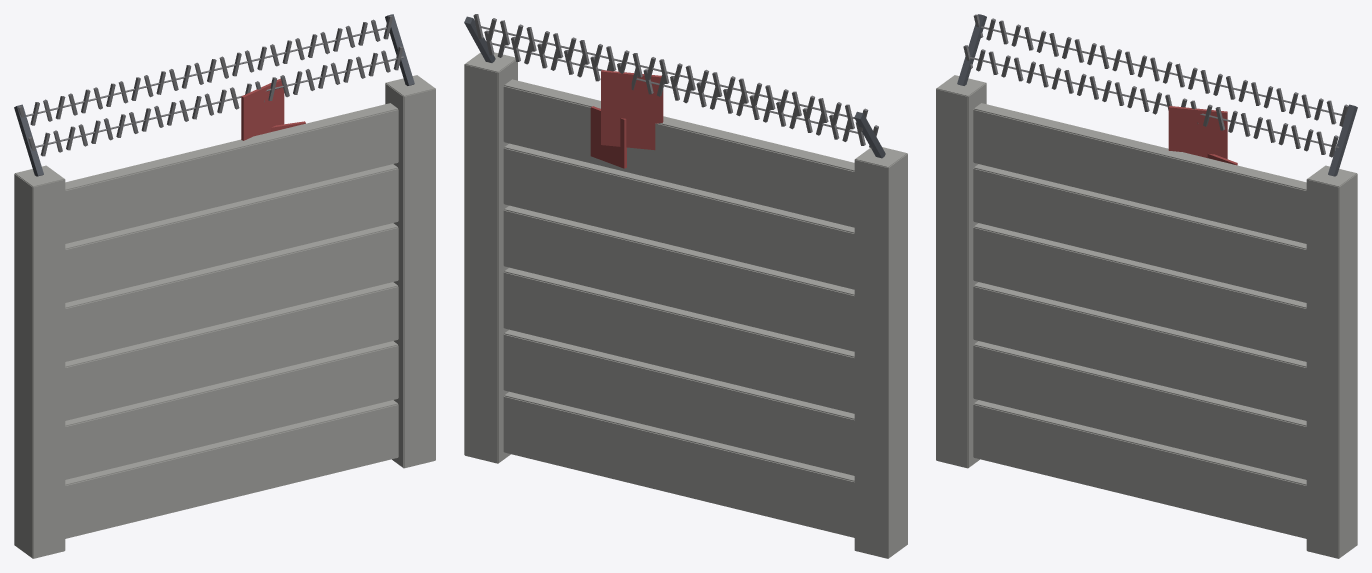
File: fence_high_barbed.glb
3 renders of one model, left to right at view 1: azimuth 30°, elevation 25°; view 2: azimuth 150°, elevation 25°; view 3: azimuth 330°, elevation 25°, orthographic. The views are drawn at different scales.
Visible parts, largest first — view 1: ok_mesh, loose_mesh; view 2: ok_mesh, loose_mesh; view 3: ok_mesh, loose_mesh.
Part boxes in pixels (bbox=[...]): ok_mesh: bbox=[14, 14, 435, 558]; loose_mesh: bbox=[26, 27, 403, 147]; ok_mesh: bbox=[464, 14, 907, 558]; loose_mesh: bbox=[485, 27, 863, 168]; ok_mesh: bbox=[936, 14, 1357, 558]; loose_mesh: bbox=[981, 27, 1345, 165].
Size of what is drawn, in the model's own units: 2.72 by 2.77 by 0.3763.
